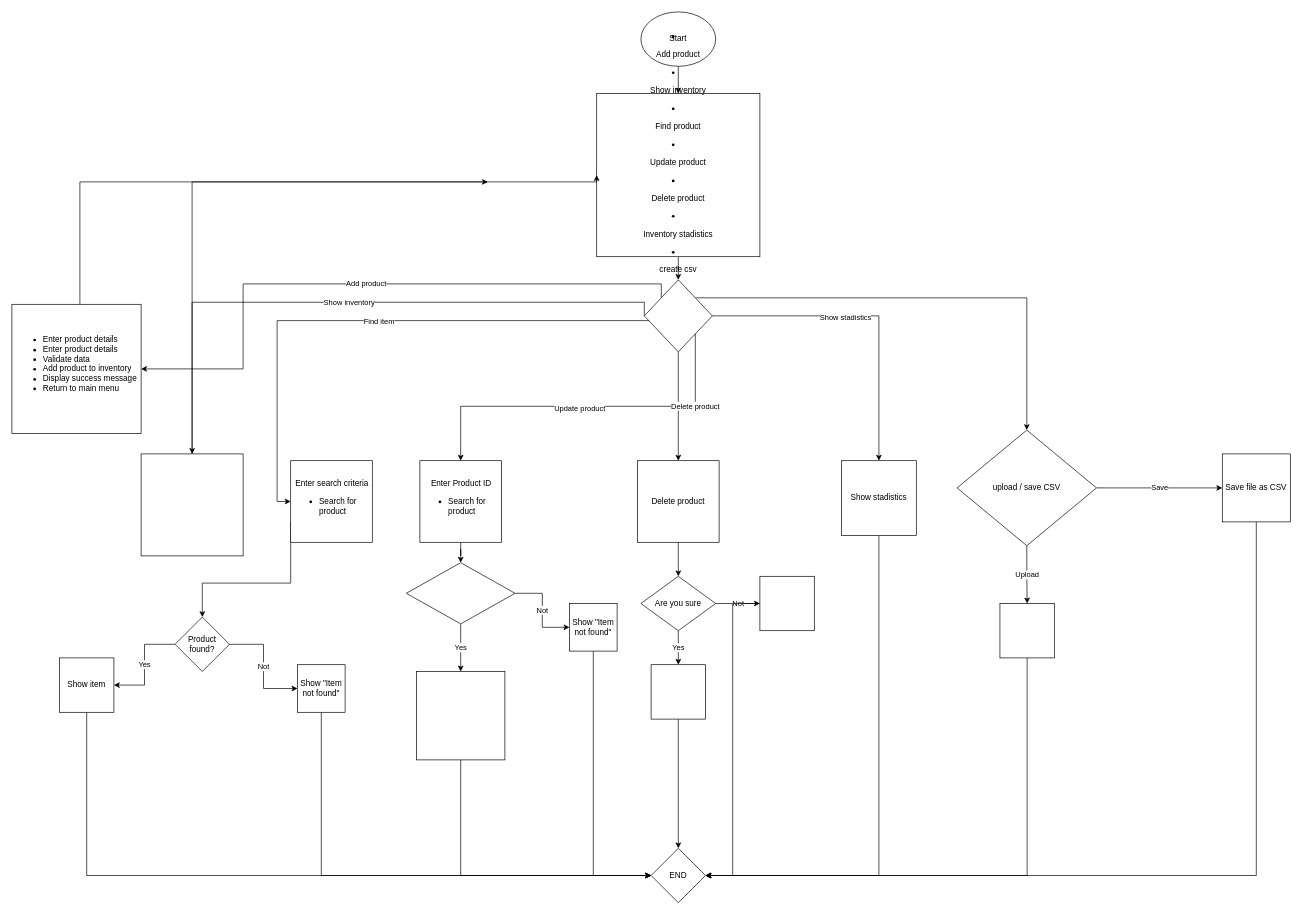
The diagram is 1302 pixels wide and 915 high, and some of its shapes have lost their labels. The shapes that lost their labels are listed below. From the top down, each one's box as (x1, y1, x2, y2) in pixels, then its label:
(644, 279, 712, 352): Option selected
(140, 453, 243, 556): Get product list Show products on screen Return to main menu
(406, 562, 515, 624): Does this product exist?
(759, 576, 814, 631): Show error message
(999, 603, 1054, 658): upload CSV file
(650, 664, 706, 719): Product deleted Show Mesaage
(416, 671, 505, 760): Enter new information Validate data Update data Show message
